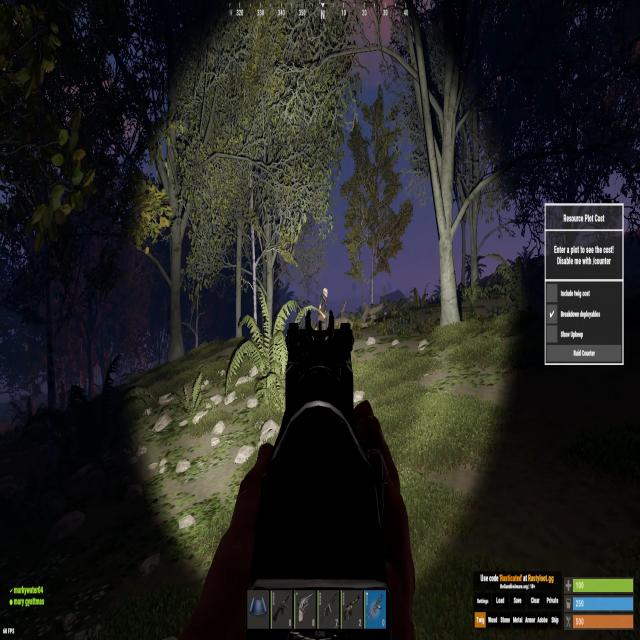Player: (316, 287, 330, 331)
